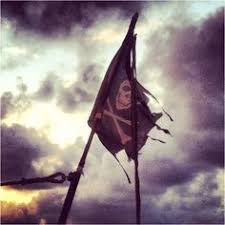Jolly Roger Flag: (86, 25, 180, 181)
